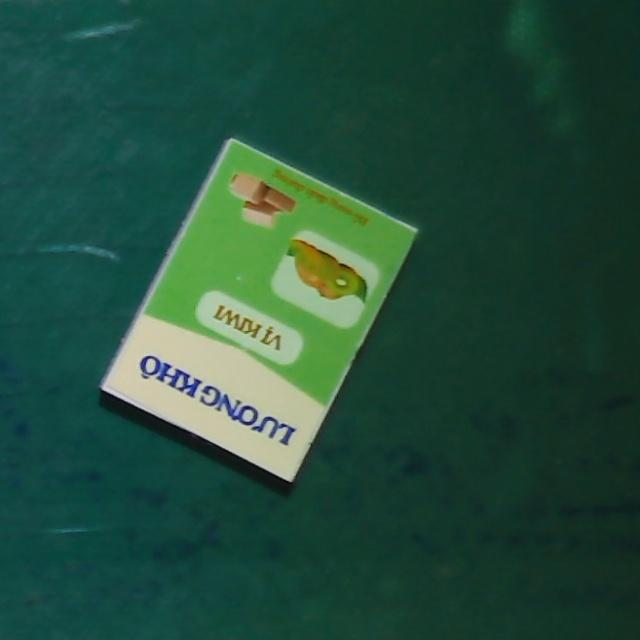kiwi: (98, 133, 417, 484)
